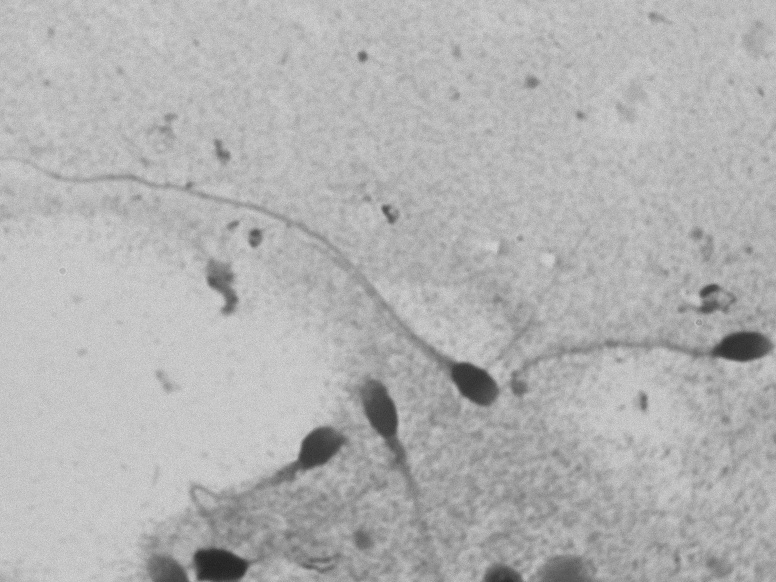Abnormal: (528, 290, 773, 425), (344, 371, 444, 536)
Normal: (8, 132, 514, 424)
